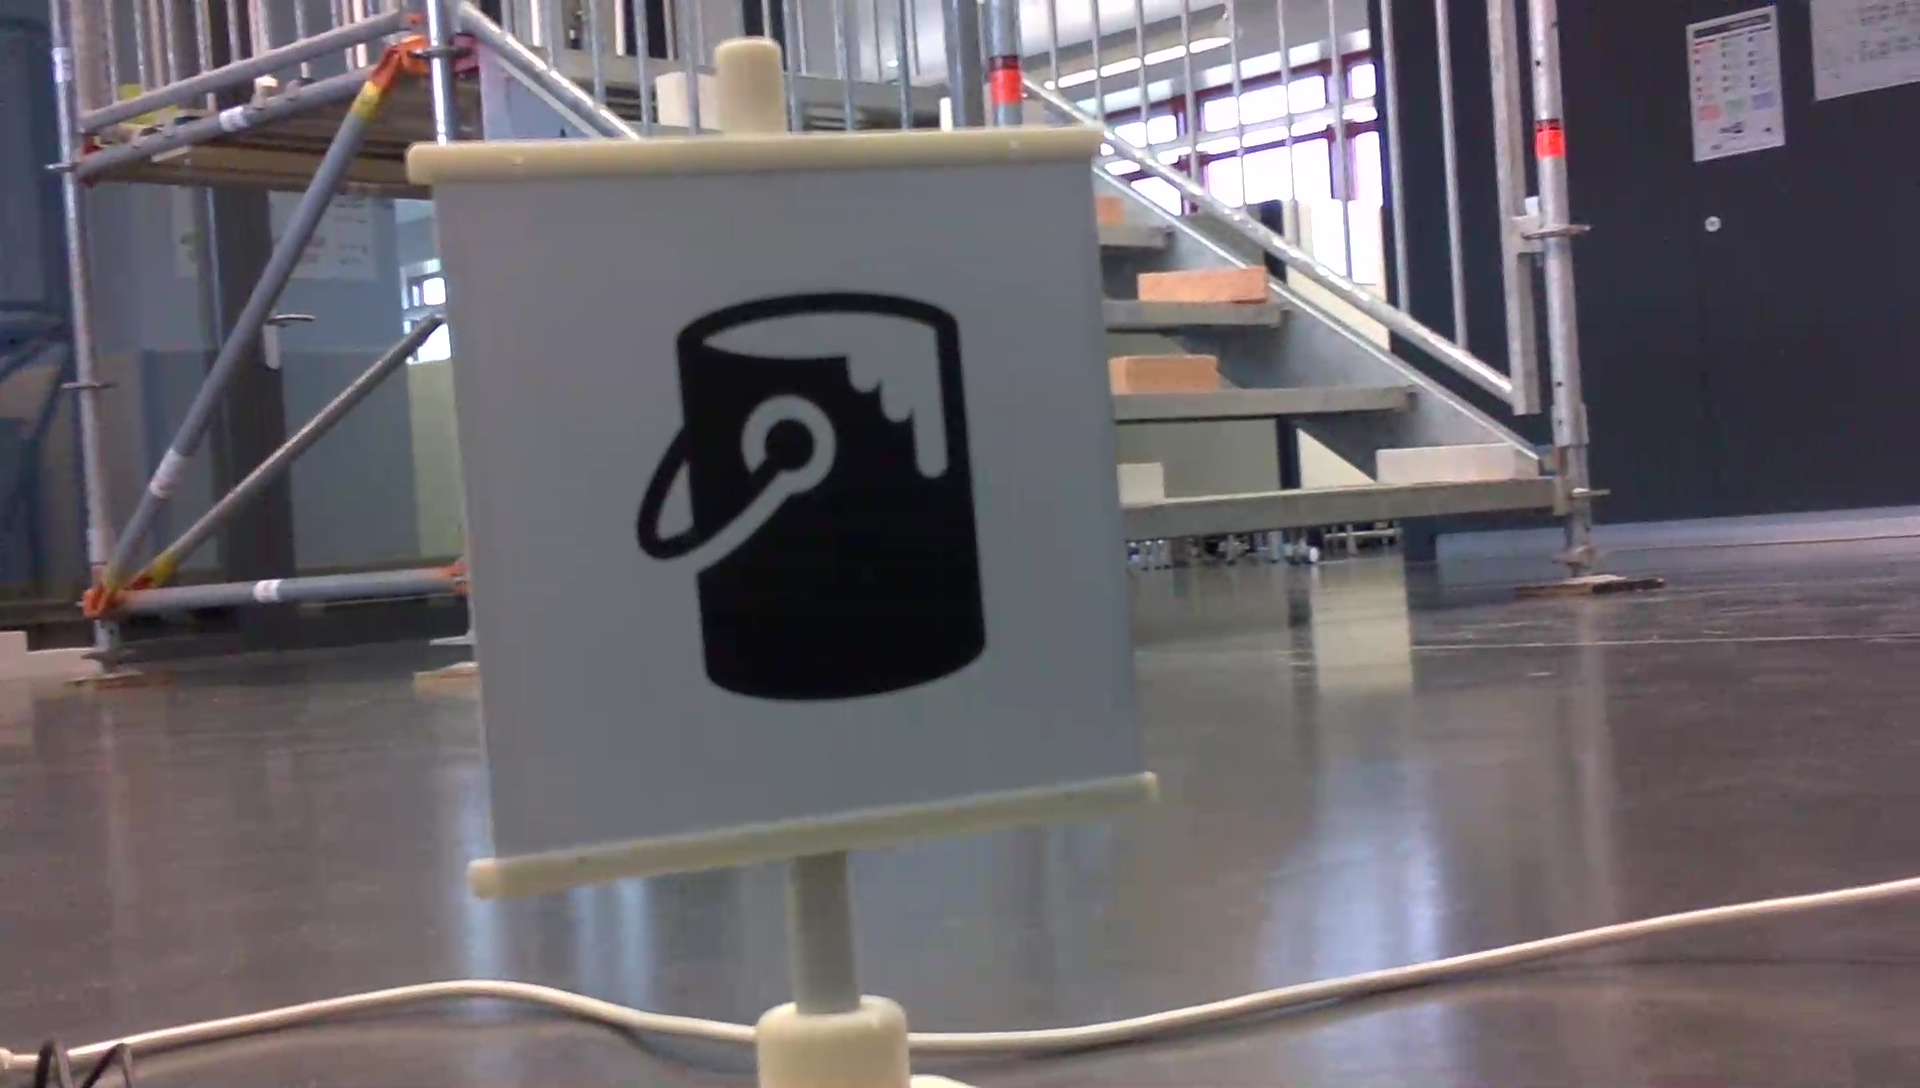brick: (1379, 444, 1513, 480), (1110, 355, 1215, 390), (1139, 270, 1265, 299), (1116, 462, 1163, 502)
bucket: (617, 281, 1000, 715)
edge: (1130, 477, 1551, 538), (1114, 386, 1422, 415), (1102, 298, 1292, 326), (1097, 226, 1178, 247)
